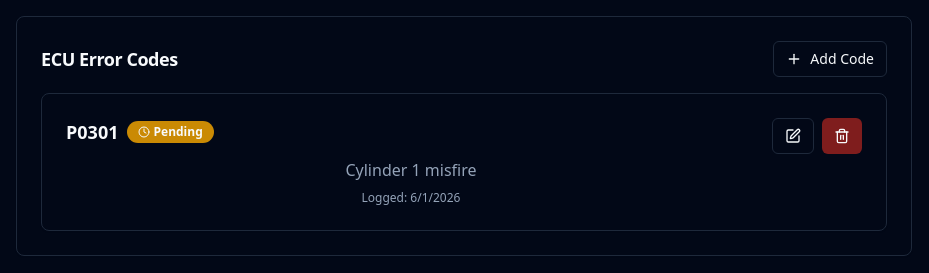
Scenario: ECUCodes › toggles an ECU code status
Click the text "Pending" at (170, 132), box top-left (126, 121), bottom-right (214, 143)
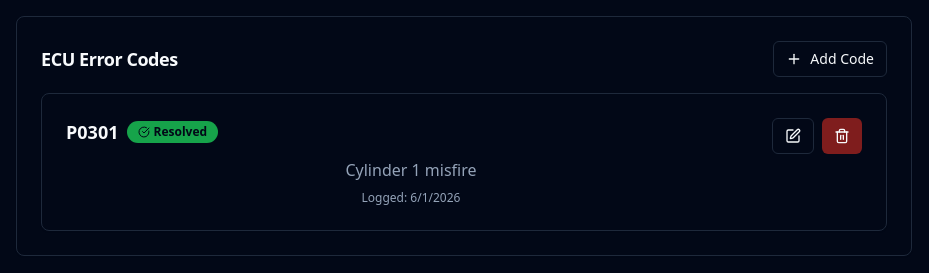
Now the text "Resolved" is shown, box top-left (126, 121), bottom-right (218, 143)
